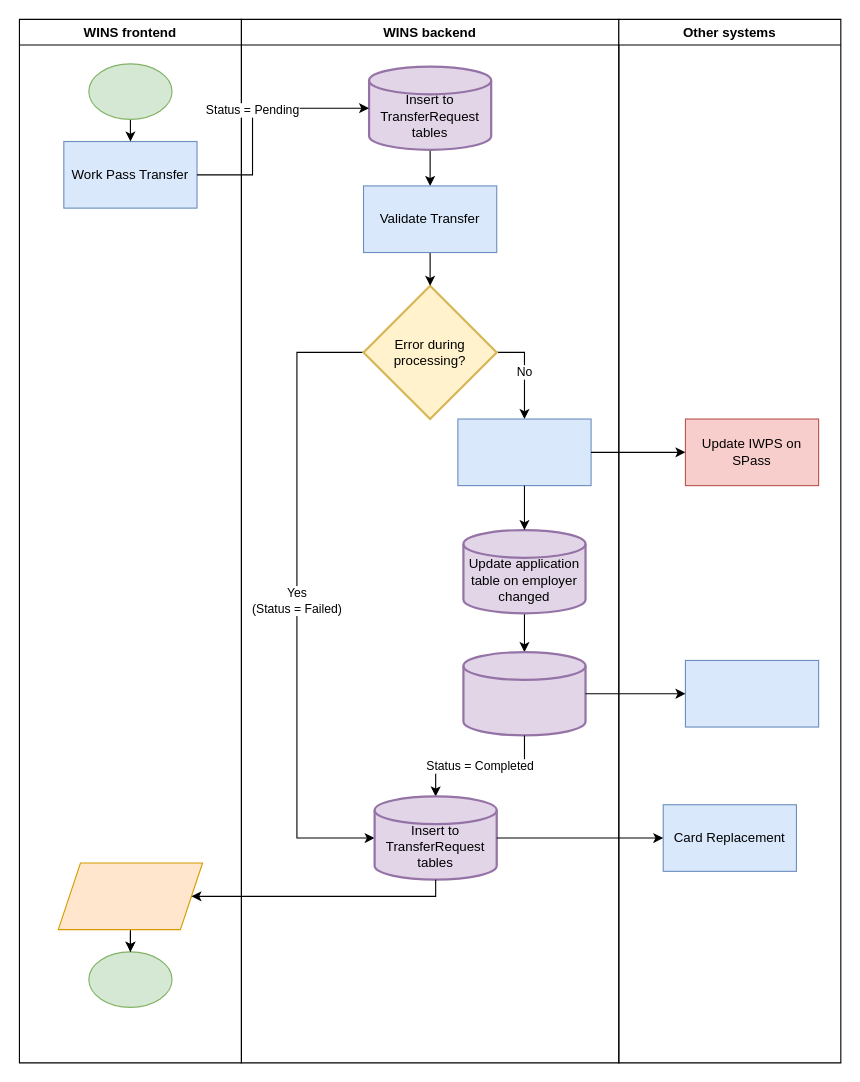
This 860x1082 diagram has some shape labels left out. The centre of each missing label's shape, as x and y in pixels:
"Call Workpass WINSRULES API" goes at (524,452).
"Display success/error" goes at (130,896).
"End" goes at (130,979).
"ICA Job" goes at (751,693).
"Insert to event table (TB_AUDIT)" goes at (524,693).
"Start" goes at (130,91).
